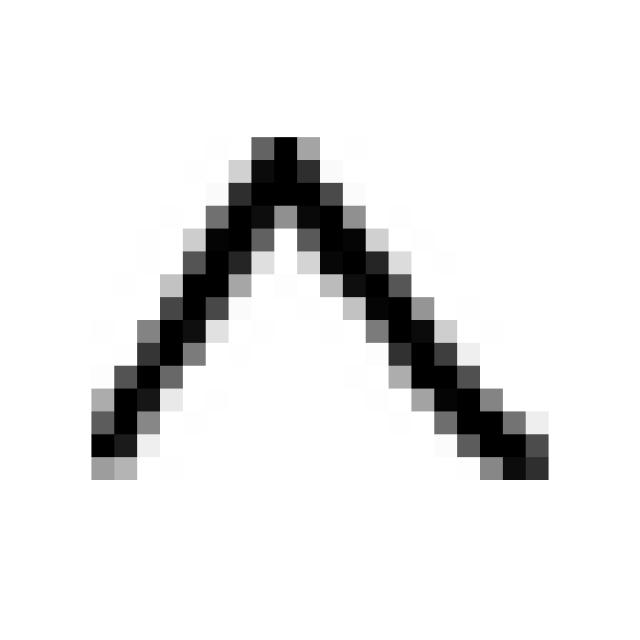8 -eight-: (71, 112, 567, 509)
